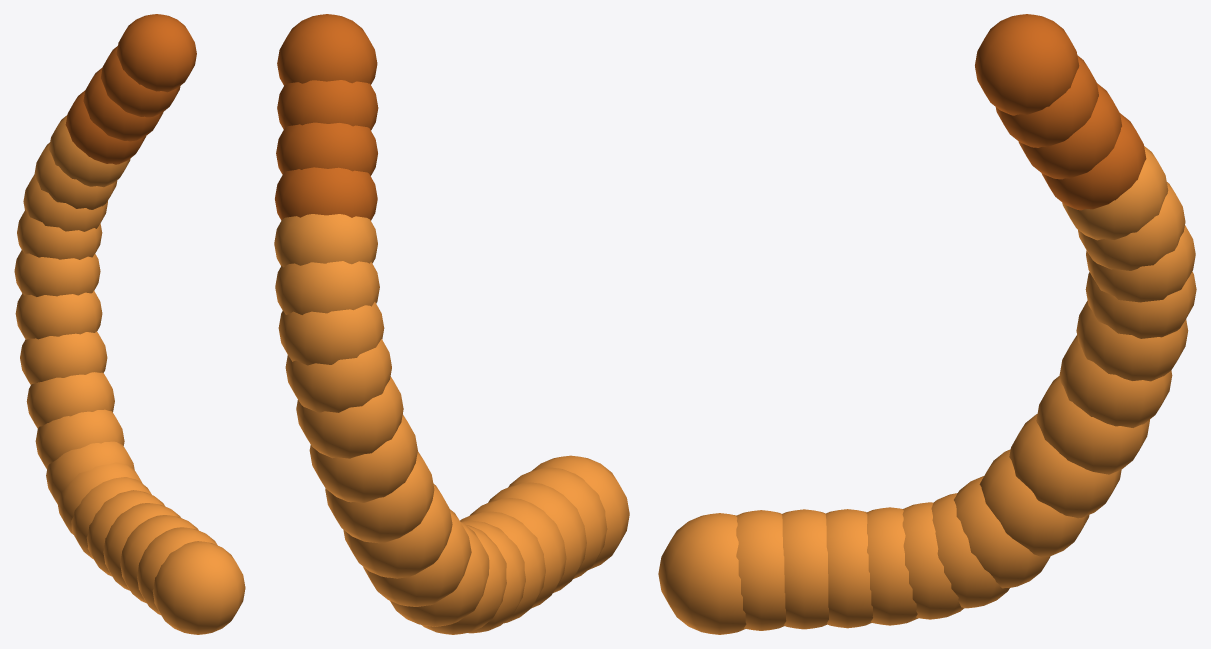
The model's file is tail_cat.glb.
3 views of the same model, side by side, from view 1: azimuth 30°, elevation 25°; view 2: azimuth 150°, elevation 25°; view 3: azimuth 270°, elevation 25° (orthographic). The views are drawn at different scales.
Size of the model in its own units: 0.2986 by 0.948 by 0.7008.
